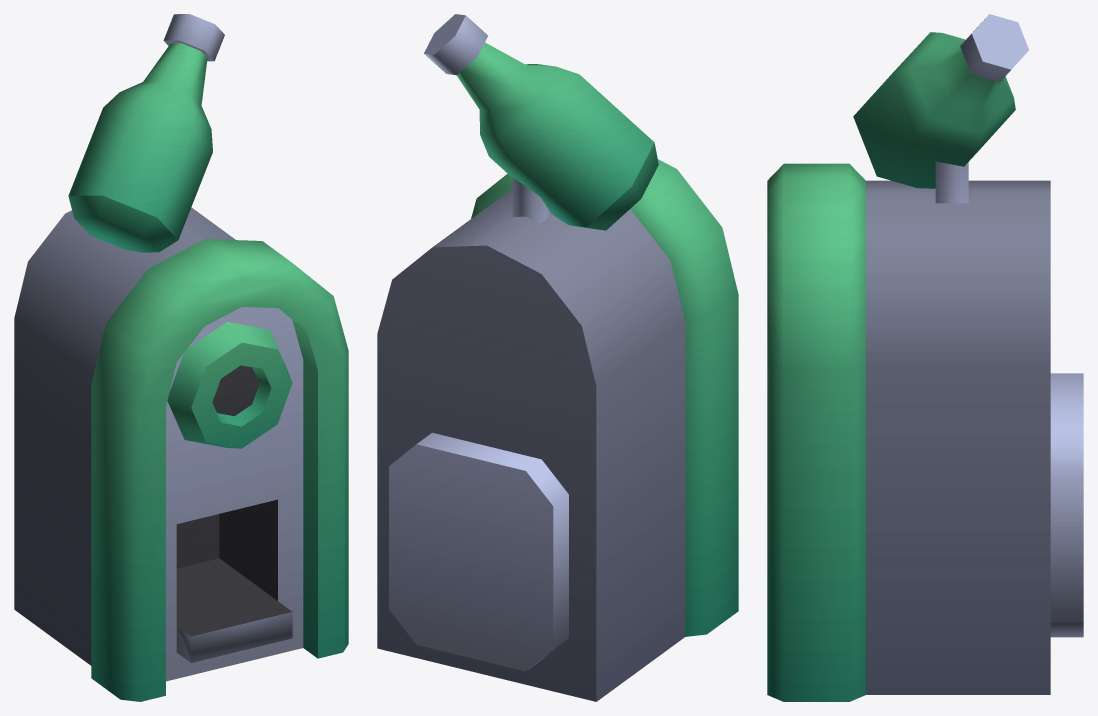
Rendered from cc0-bottle-return-lod0.glb.
3 views of the same model, side by side, from view 1: azimuth 30°, elevation 25°; view 2: azimuth 150°, elevation 25°; view 3: azimuth 270°, elevation 25° (orthographic). The views are drawn at different scales.
Visible parts, largest first — view 1: part_0; view 2: part_0; view 3: part_0.
Boxes of the visible parts, left/top/right/bottom form: part_0: left=14, top=14, right=348, bottom=701; part_0: left=377, top=14, right=738, bottom=701; part_0: left=767, top=14, right=1083, bottom=701.
Bounding box in the file's own units: 0.45 × 1.09 × 0.481.
Materials: 1 (1 with a texture image).
